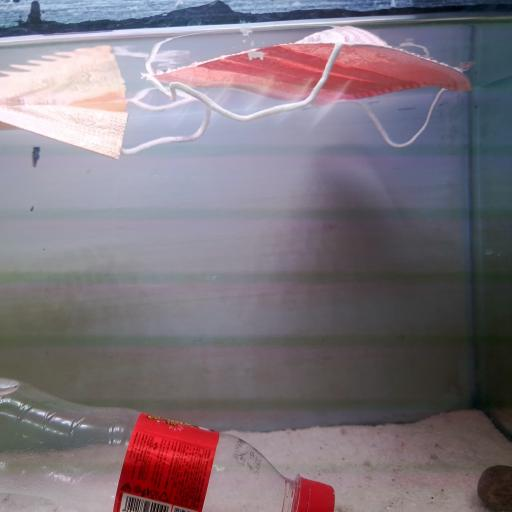bottle_cap: (292, 473, 336, 508)
mask: (156, 42, 470, 147), (0, 78, 208, 170)
plastic_bottle: (0, 374, 337, 512)
